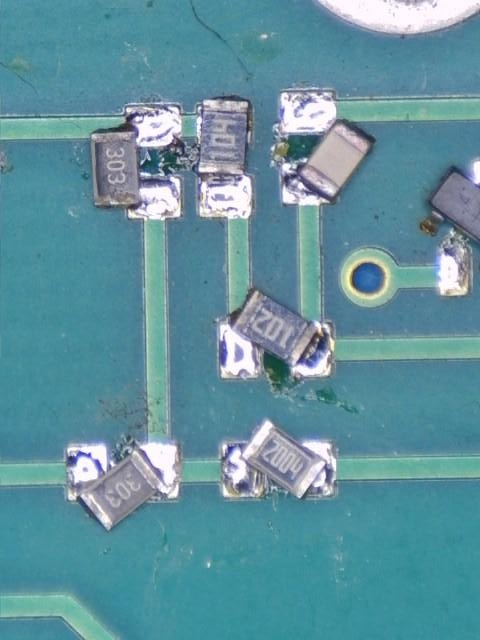pcb_defect: (278, 90, 375, 206), (218, 286, 333, 380), (90, 105, 182, 220), (66, 443, 179, 533), (220, 418, 335, 500), (419, 161, 480, 297), (197, 98, 252, 218)
